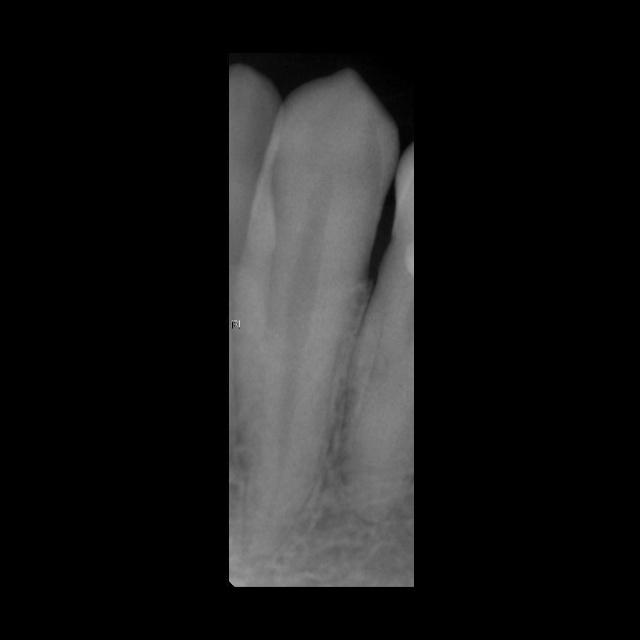tooth: (228, 66, 400, 578)
